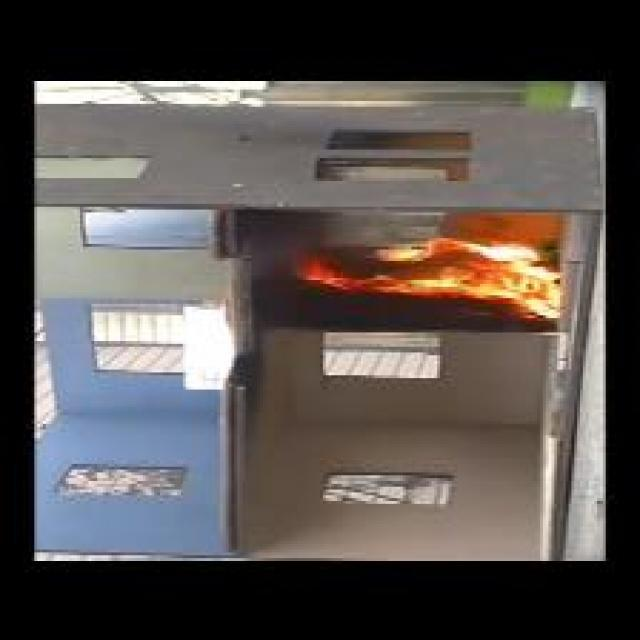Fire: (302, 235, 562, 318)
